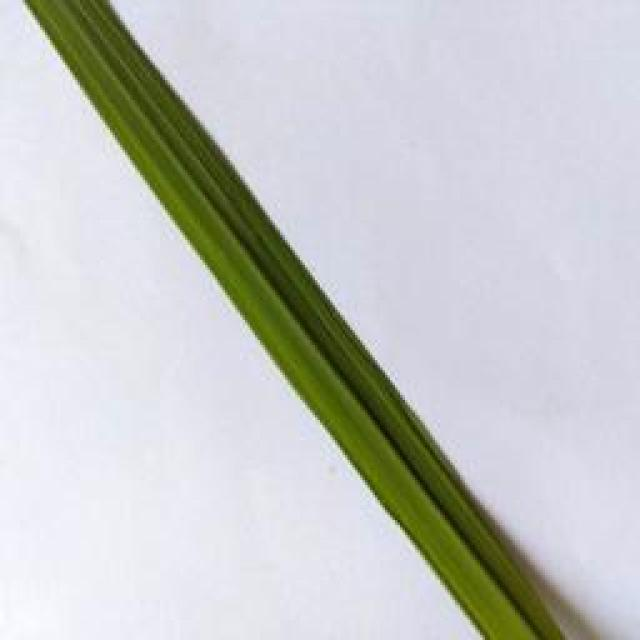Healthy-Plant: (26, 0, 565, 640)
